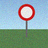sign: (18, 4, 35, 37)
